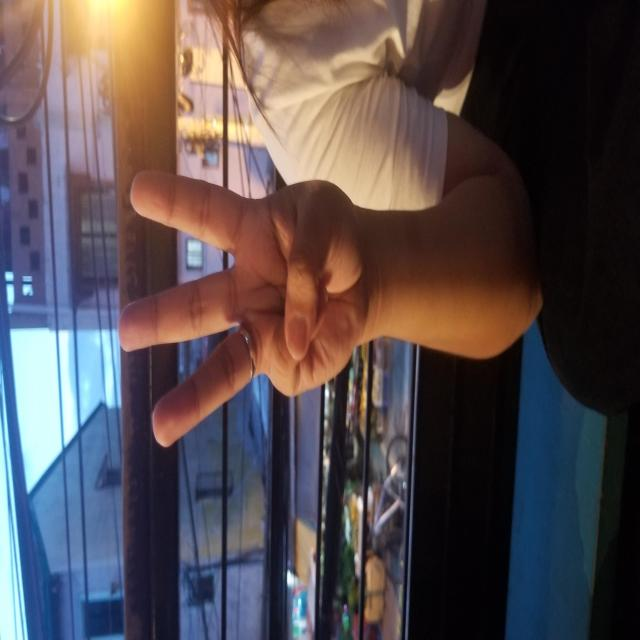W: (192, 118, 473, 368)
